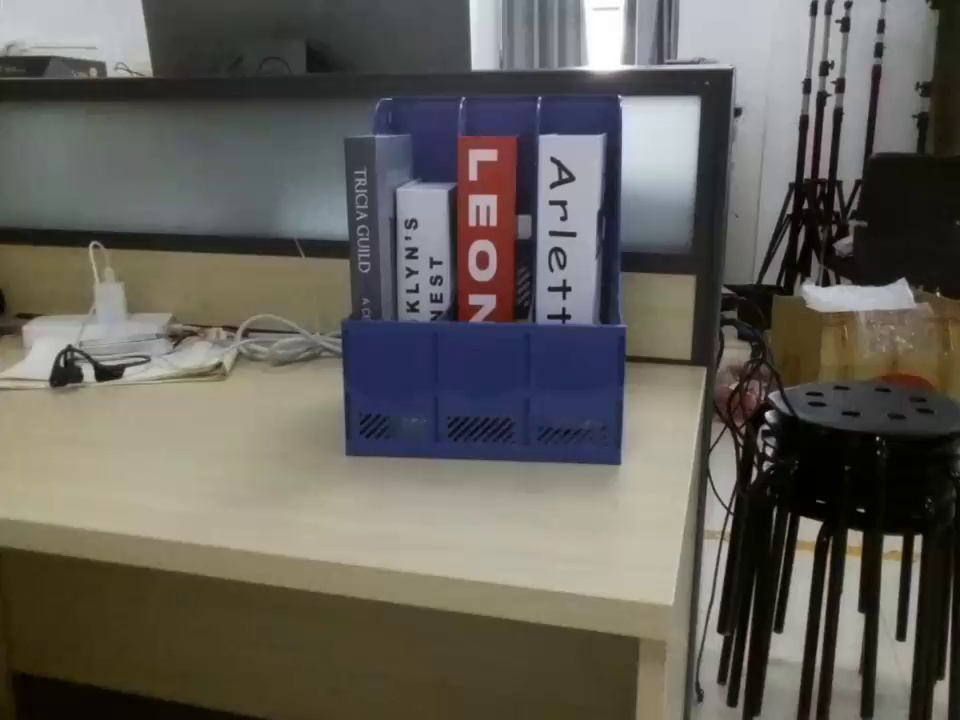files: (334, 92, 641, 469)
